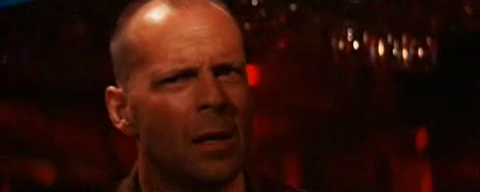cu: (1, 1, 480, 192)
face: (135, 18, 250, 186)
person: (103, 1, 302, 192)
